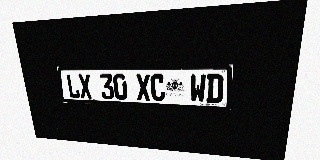0: (113, 74, 128, 100)
3: (99, 74, 115, 99)
C: (150, 74, 165, 101)
D: (206, 74, 224, 103)
L: (66, 74, 81, 98)
W: (190, 74, 206, 102)
X: (136, 74, 151, 101), (78, 74, 93, 98)
